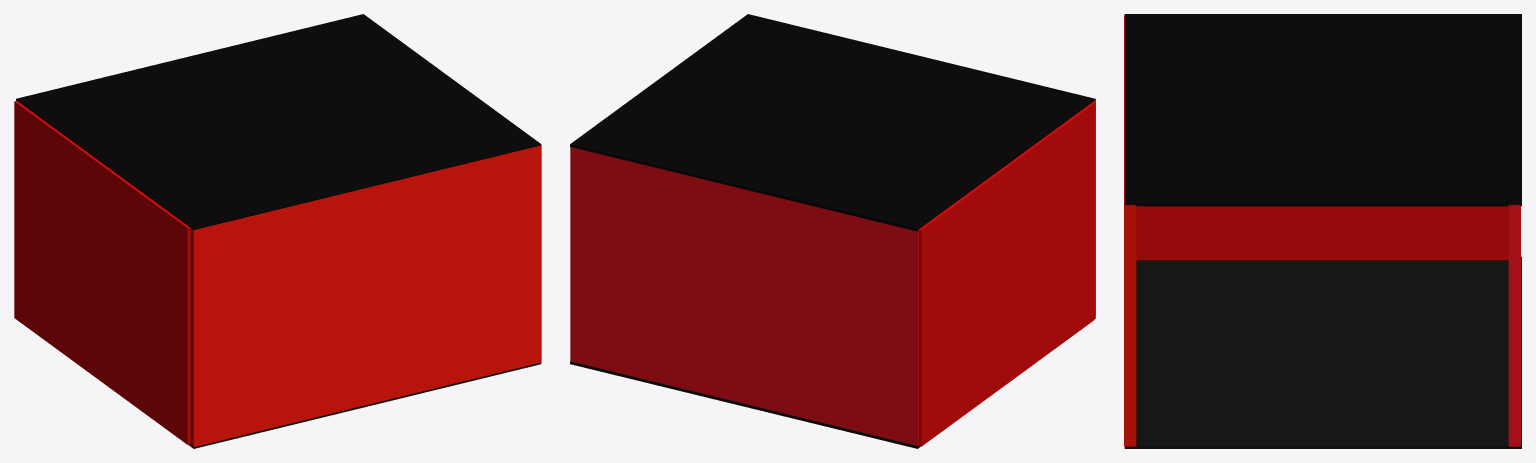
File: Taller de reparacion.fbx
The picture shows the model from 3 angles, left to right: view 1: azimuth 30°, elevation 25°; view 2: azimuth 150°, elevation 25°; view 3: azimuth 270°, elevation 25°; orthographic projection. The views are drawn at different scales.
Visible parts, largest first — view 1: Cube.001, Cube.004, Cube.003, Cube; view 2: Cube.002, Cube.004, Cube.003, Cube; view 3: Cube.004, Cube, Cube.003, Cube.001, Cube.002.
Part boxes in pixels (bbox=[...]): Cube.001: bbox=[190, 145, 541, 446]; Cube.004: bbox=[16, 14, 541, 229]; Cube.003: bbox=[14, 101, 190, 444]; Cube: bbox=[189, 362, 541, 448]; Cube.002: bbox=[570, 147, 918, 445]; Cube.004: bbox=[570, 14, 1095, 231]; Cube.003: bbox=[918, 102, 1094, 446]; Cube: bbox=[570, 317, 1095, 448]; Cube.004: bbox=[1124, 14, 1521, 206]; Cube: bbox=[1124, 256, 1521, 448]; Cube.003: bbox=[1136, 206, 1508, 260]; Cube.001: bbox=[1124, 15, 1136, 446]; Cube.002: bbox=[1508, 204, 1520, 446].
Bounding box in the file's own units: 2013 × 1208 × 1773.
